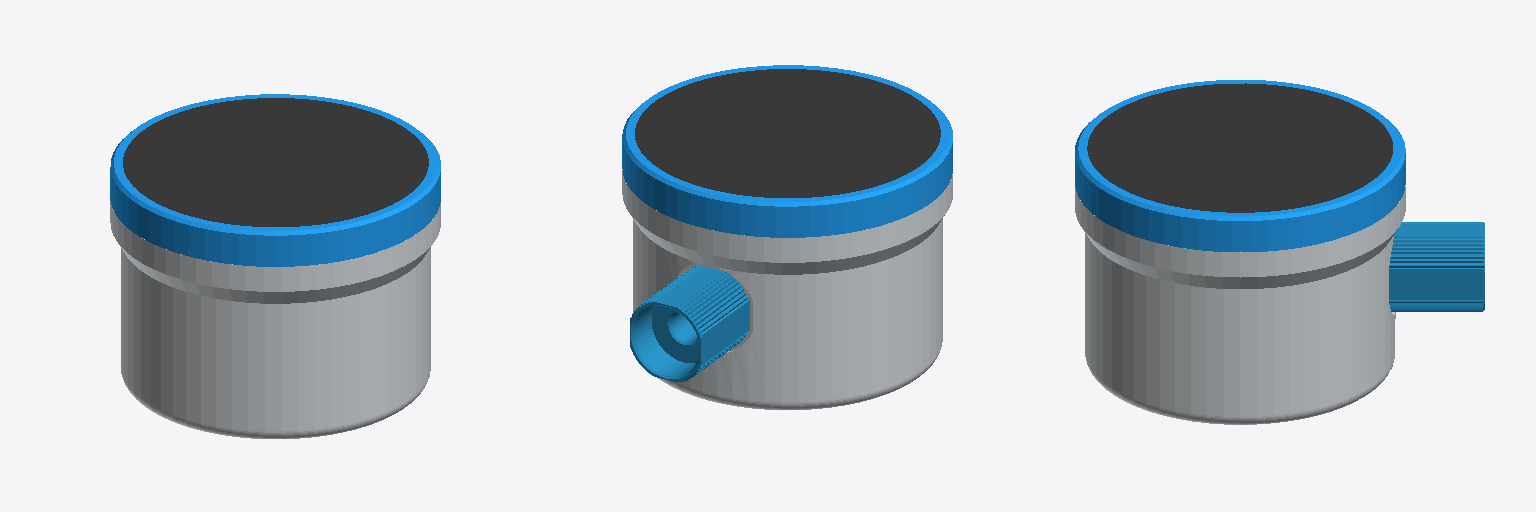
The model's file is PING-ASM-R2-PUBLIC.obj.
3 renders of one model, left to right at view 1: azimuth 30°, elevation 25°; view 2: azimuth 150°, elevation 25°; view 3: azimuth 270°, elevation 25°, orthographic.
Visible parts, largest first — view 1: mesh21, mesh51, mesh6, mesh26, mesh8, mesh25, mesh20, mesh7; view 2: mesh51, mesh21, mesh6, mesh26, mesh8, mesh25, mesh20, mesh7, mesh70, mesh106, mesh69, mesh73; view 3: mesh21, mesh51, mesh6, mesh26, mesh8, mesh25, mesh131, mesh20, mesh7, mesh73.
Part boxes in pixels (bbox=[...]): mesh21: bbox=[121, 248, 430, 430]; mesh51: bbox=[123, 98, 428, 226]; mesh6: bbox=[110, 169, 440, 266]; mesh26: bbox=[110, 201, 440, 291]; mesh8: bbox=[114, 94, 437, 230]; mesh25: bbox=[120, 246, 430, 303]; mesh20: bbox=[121, 370, 430, 438]; mesh7: bbox=[110, 131, 440, 235]; mesh51: bbox=[635, 69, 940, 197]; mesh21: bbox=[633, 219, 942, 401]; mesh6: bbox=[622, 138, 952, 237]; mesh26: bbox=[622, 170, 952, 262]; mesh8: bbox=[626, 65, 949, 201]; mesh25: bbox=[632, 215, 944, 274]; mesh20: bbox=[658, 345, 941, 409]; mesh7: bbox=[622, 104, 952, 206]; mesh70: bbox=[634, 306, 695, 376]; mesh106: bbox=[701, 300, 749, 364]; mesh69: bbox=[652, 306, 698, 362]; mesh73: bbox=[655, 266, 723, 306]; mesh21: bbox=[1085, 233, 1395, 416]; mesh51: bbox=[1087, 83, 1392, 212]; mesh6: bbox=[1075, 154, 1405, 251]; mesh26: bbox=[1075, 187, 1405, 277]; mesh8: bbox=[1078, 80, 1401, 216]; mesh25: bbox=[1082, 228, 1397, 288]; mesh131: bbox=[1389, 269, 1484, 299]; mesh20: bbox=[1085, 355, 1394, 424]; mesh7: bbox=[1075, 119, 1405, 220]; mesh73: bbox=[1394, 224, 1484, 234].
Bounding box in the file's own units: 0.048 × 0.0345 × 0.0595.